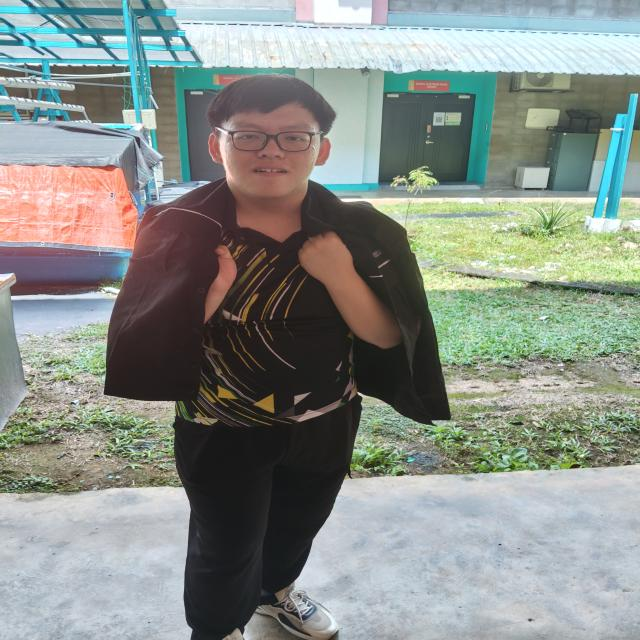person_without_labcoat: (104, 75, 450, 640)
